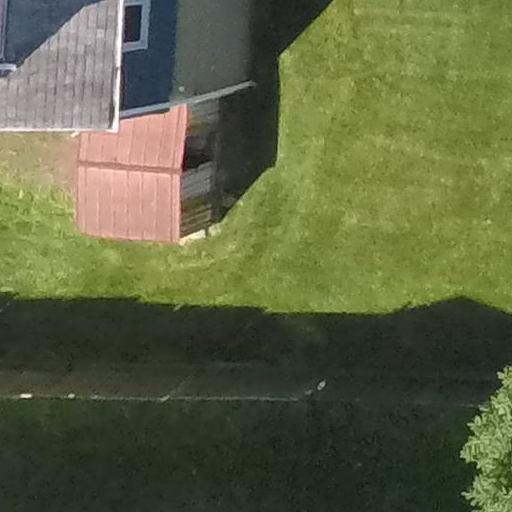fence: (6, 343, 512, 430)
